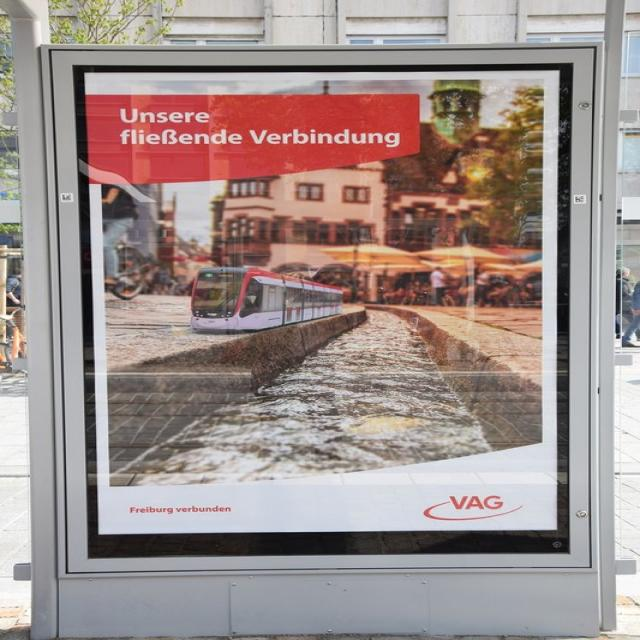Werbetafel frei: (53, 46, 598, 564)
